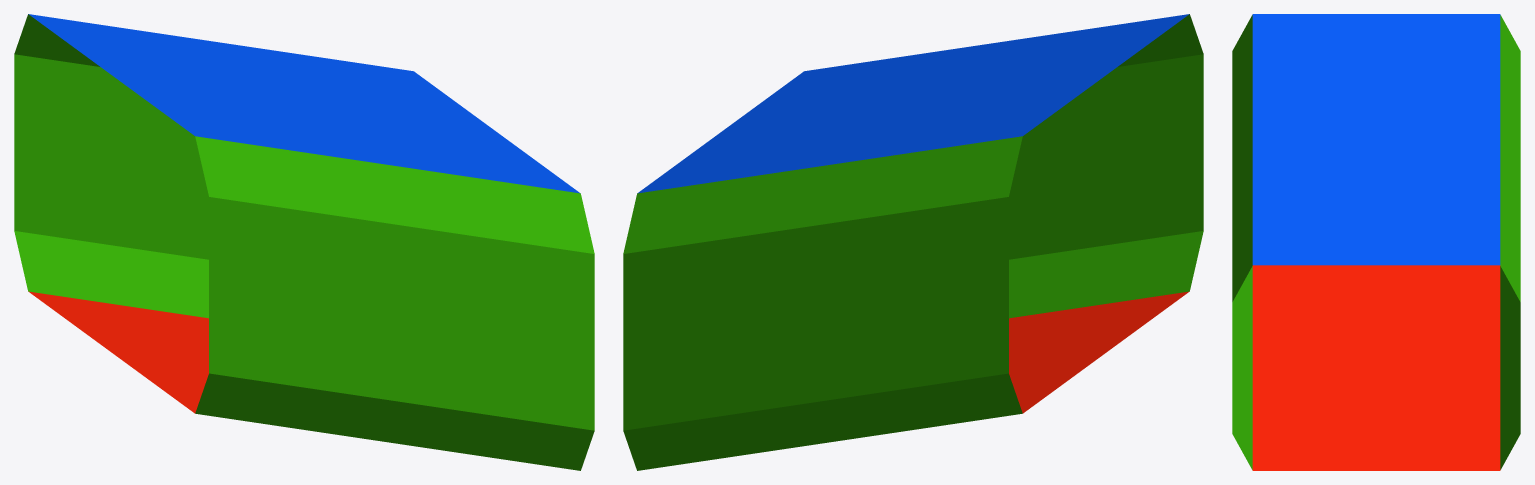
Rendered from stair_shallow.FBX.
3 views of the same model, side by side, from view 1: azimuth 30°, elevation 25°; view 2: azimuth 150°, elevation 25°; view 3: azimuth 270°, elevation 25° (orthographic). The views are drawn at different scales.
Visible parts, largest first — view 1: Plane005; view 2: Plane005; view 3: Plane005.
Boxes of the visible parts, x1=… form: Plane005: x1=14, y1=14, x2=594, y2=470; Plane005: x1=623, y1=14, x2=1203, y2=470; Plane005: x1=1232, y1=14, x2=1520, y2=470.
Bounding box in the file's own units: 157 × 167 × 138.
